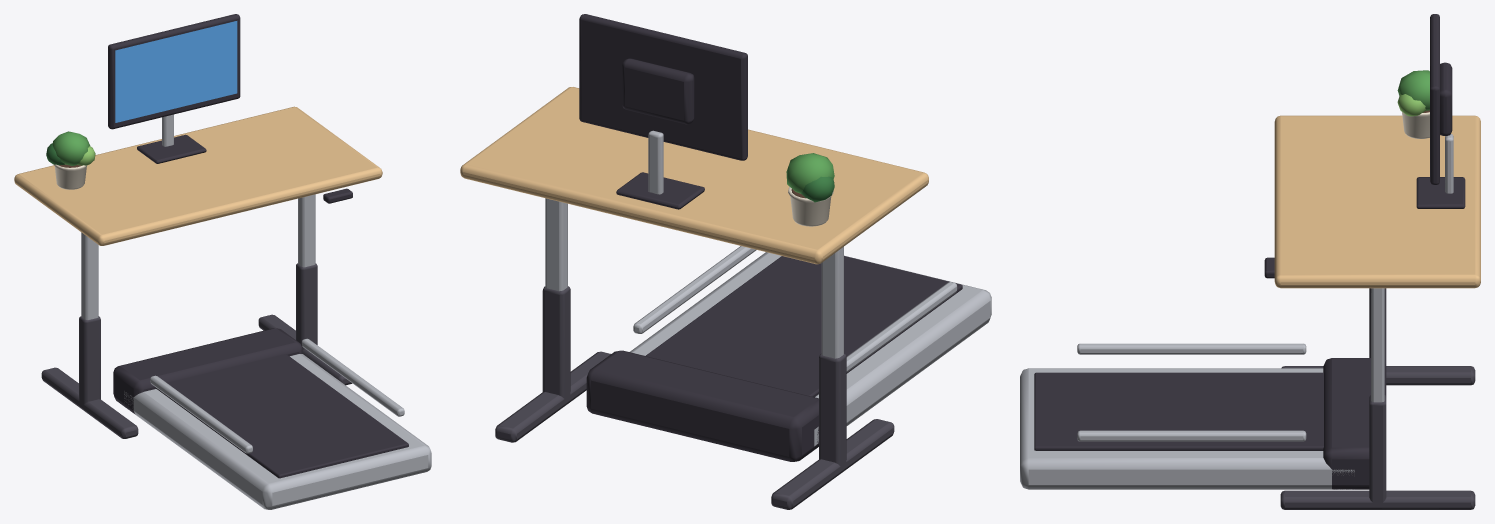
File: standing_desk_l3.glb
3 renders of one model, left to right at view 1: azimuth 30°, elevation 25°; view 2: azimuth 150°, elevation 25°; view 3: azimuth 270°, elevation 25°, orthographic. The views are drawn at different scales.
Visible parts, largest first — view 1: standing_desk_l3, standing_screen; view 2: standing_desk_l3; view 3: standing_desk_l3.
Boxes of the visible parts, x1,y1,x2,y2 form: standing_desk_l3: [14, 14, 431, 509]; standing_screen: [115, 21, 237, 122]; standing_desk_l3: [460, 14, 991, 509]; standing_desk_l3: [1020, 14, 1480, 509].
Size of the model in its own units: 1.35 by 1.52 by 1.61.
